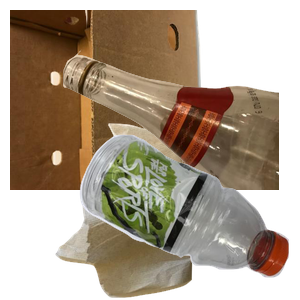cardboard: (10, 10, 211, 190)
glass: (60, 10, 300, 190)
plastic: (77, 132, 300, 300)
trash: (53, 121, 239, 300)
